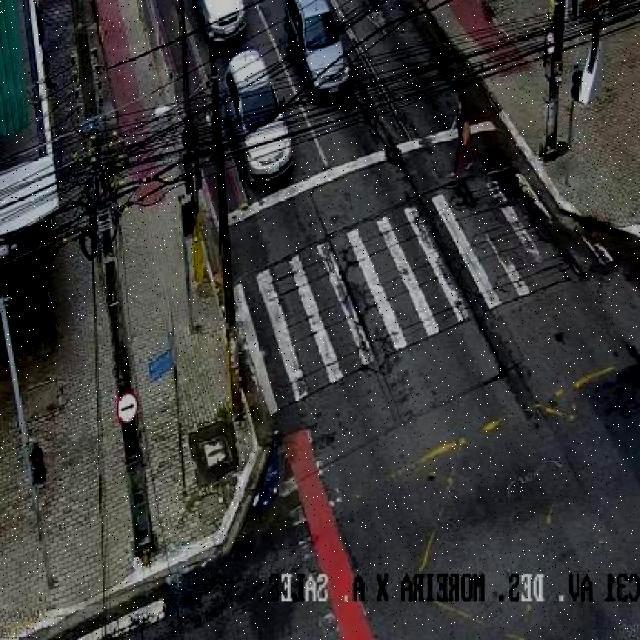Car: (232, 52, 303, 192), (294, 1, 352, 108), (192, 0, 248, 64)
